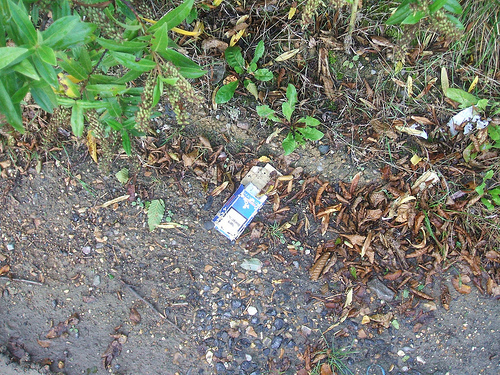litter: (211, 164, 283, 241), (450, 107, 486, 134)
